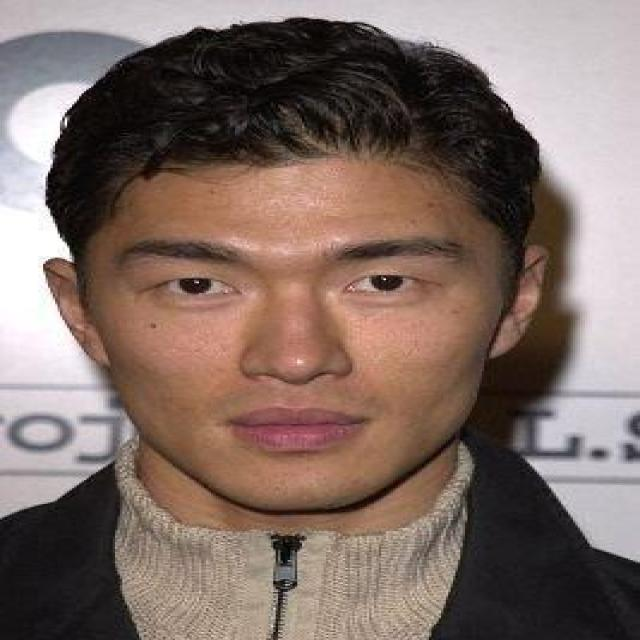0_rostro_limpio: (67, 88, 520, 516)
